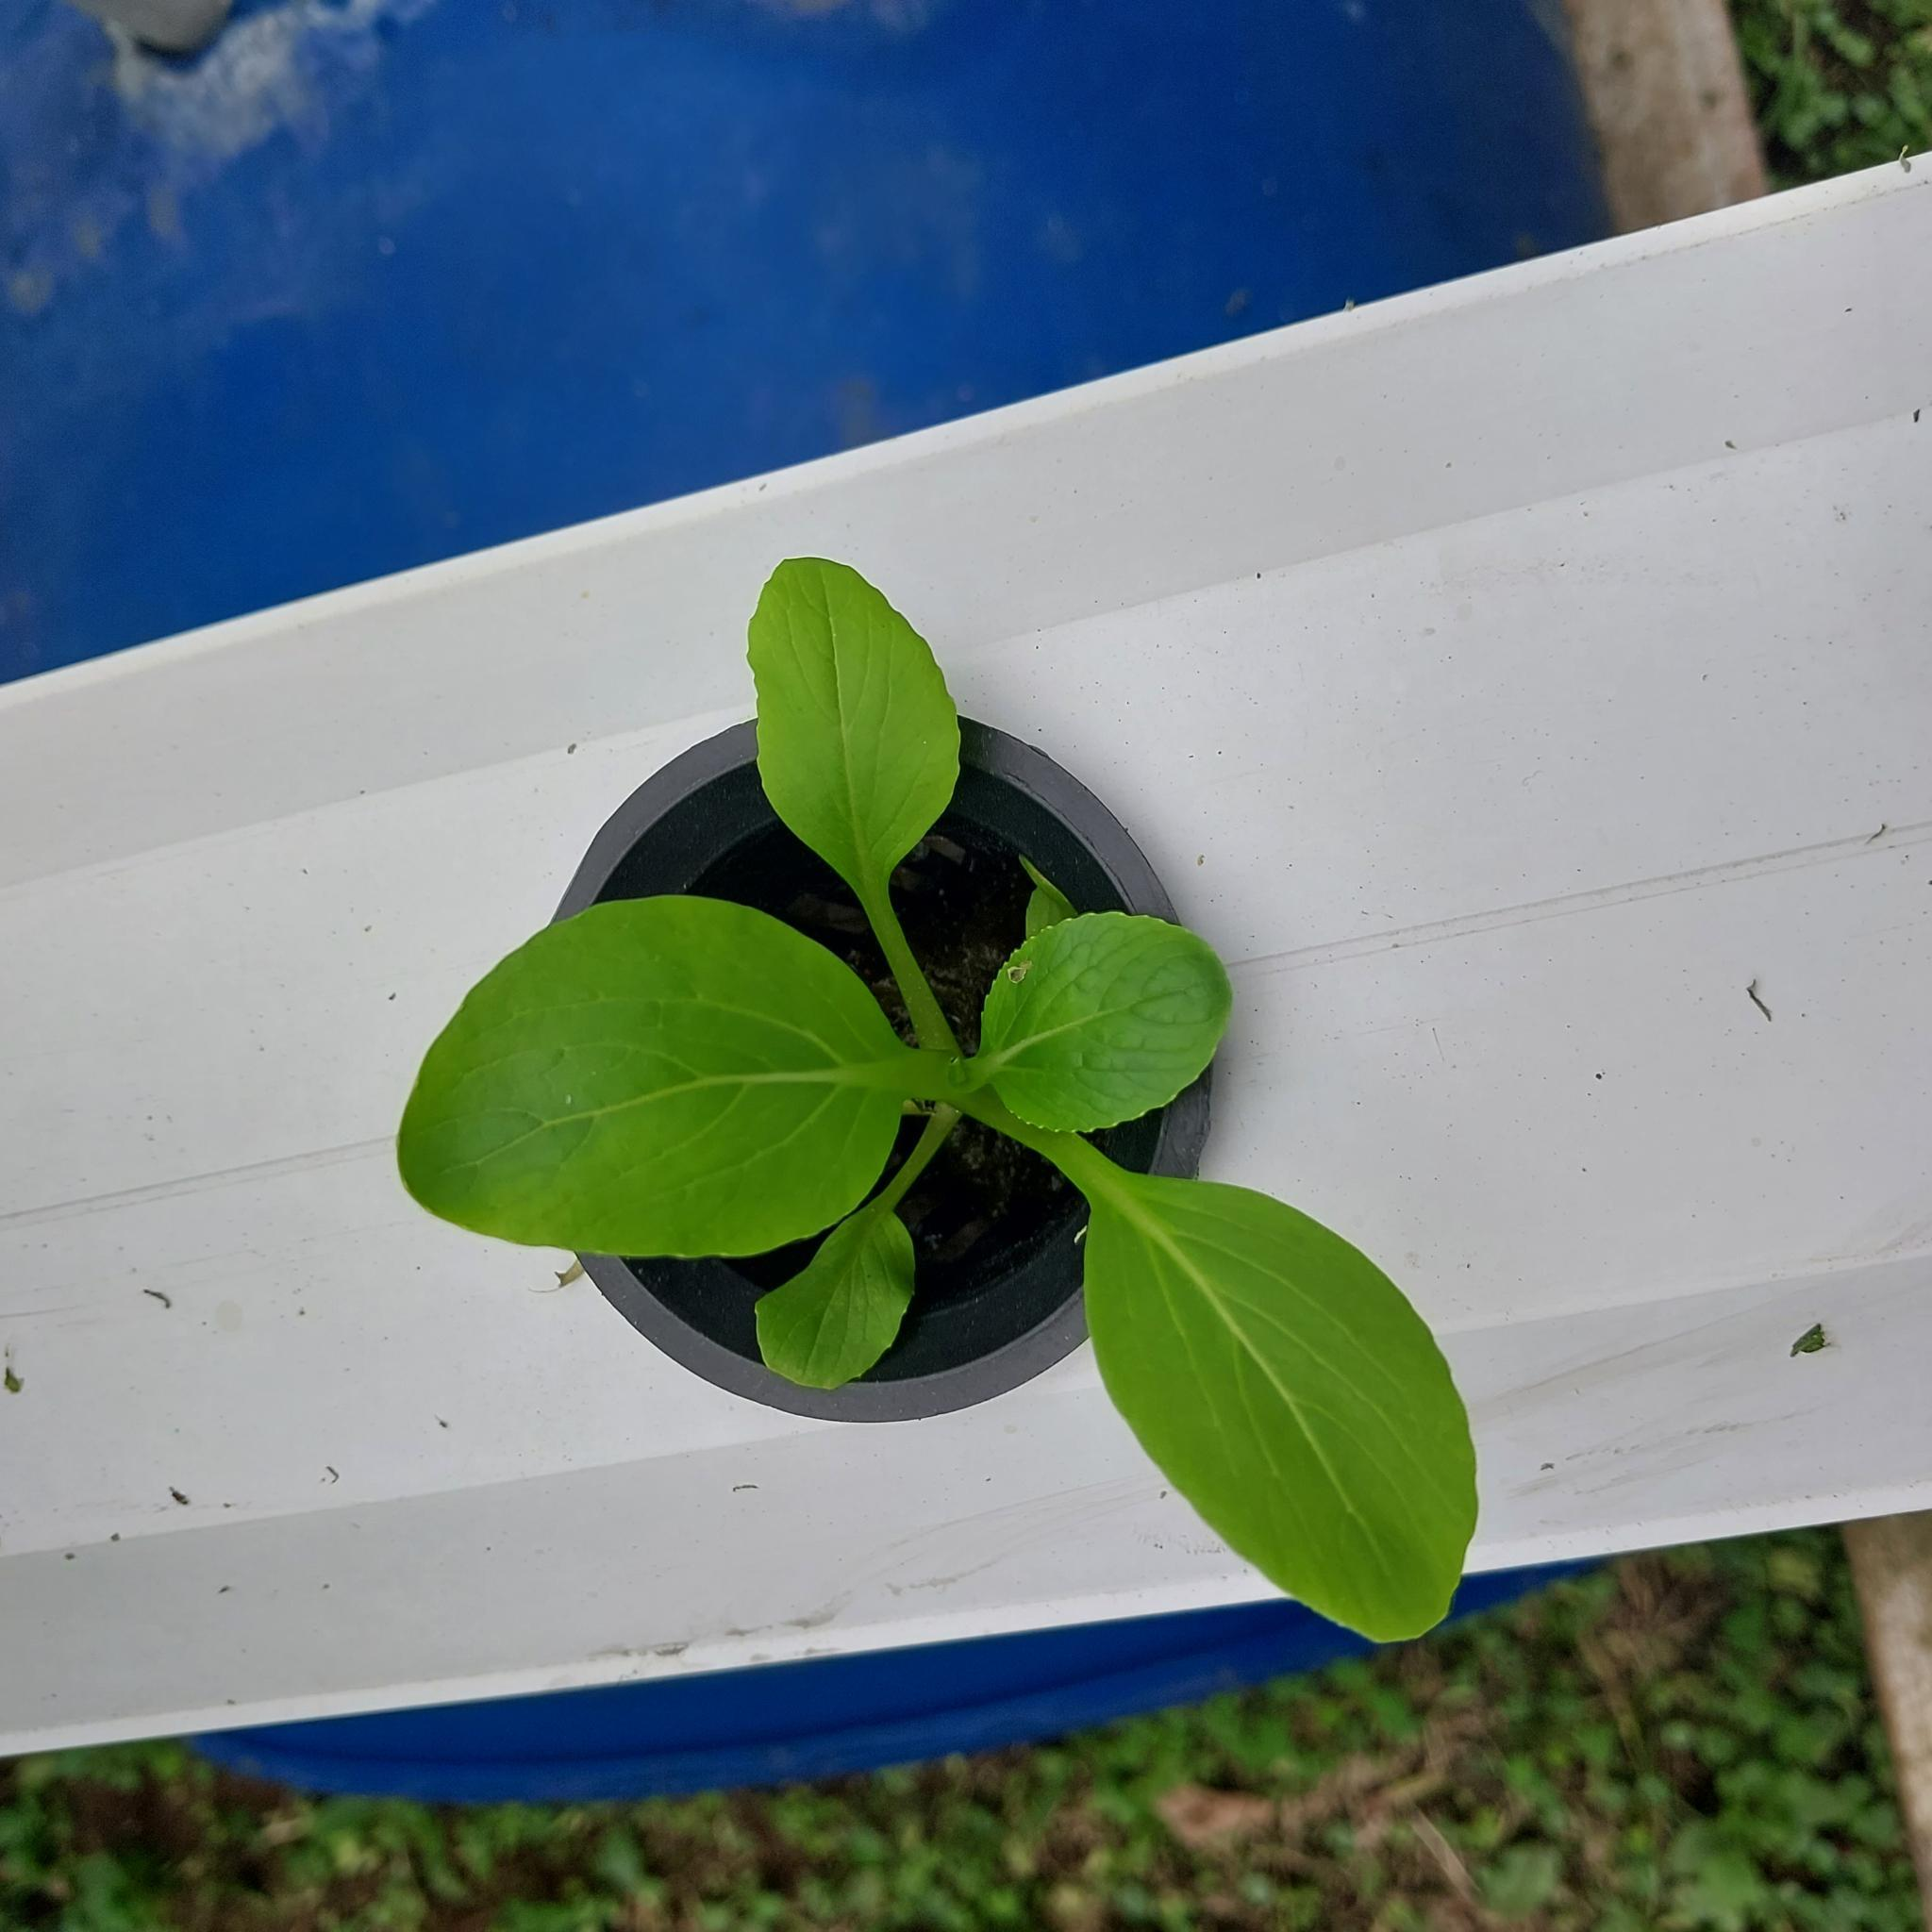Healthy-Pechay: (1056, 1141, 1472, 1652), (393, 897, 936, 1256), (745, 552, 970, 1051), (966, 911, 1235, 1134), (750, 1161, 922, 1394), (435, 1072, 656, 1187), (954, 996, 1148, 1088)
